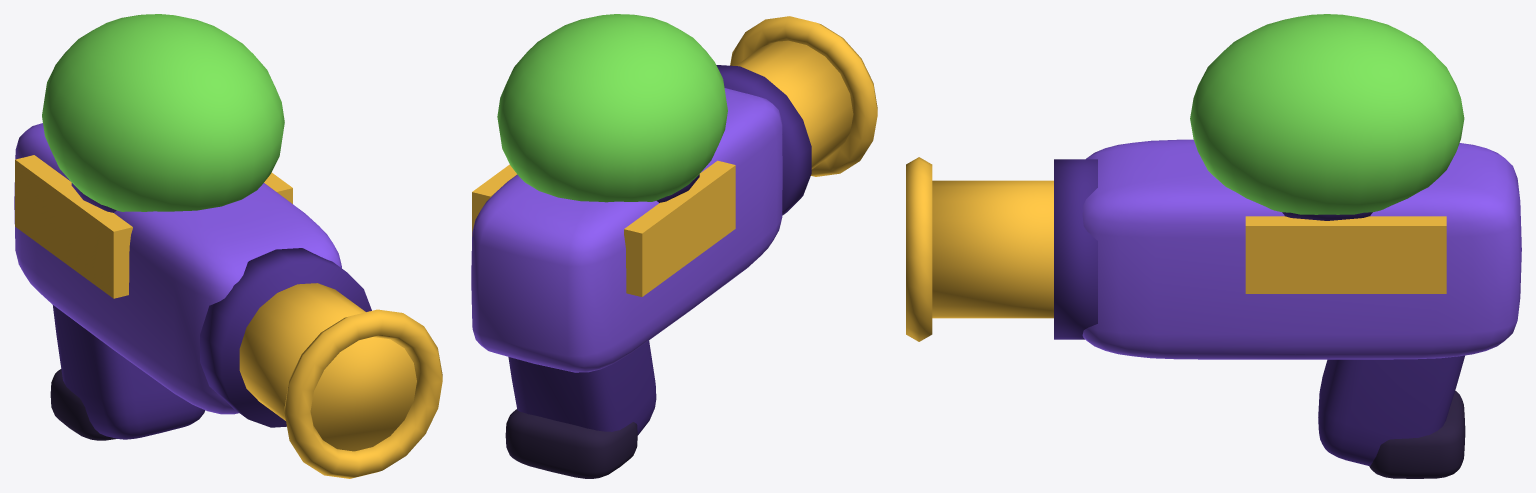
File: P_GooBlaster.fbx
The picture shows the model from 3 angles, left to right: view 1: azimuth 30°, elevation 25°; view 2: azimuth 150°, elevation 25°; view 3: azimuth 270°, elevation 25°; orthographic projection. The views are drawn at different scales.
Visible parts, largest first — view 1: P_GooBlaster__Slime, P_GooBlaster__Trim, P_GooBlaster__Body, P_GooBlaster__BodyDark, P_GooBlaster__Grip; view 2: P_GooBlaster__Body, P_GooBlaster__Slime, P_GooBlaster__Trim, P_GooBlaster__BodyDark, P_GooBlaster__Grip; view 3: P_GooBlaster__Body, P_GooBlaster__Slime, P_GooBlaster__Trim, P_GooBlaster__BodyDark, P_GooBlaster__Grip.
Boxes of the visible parts, left/top/right/bottom form: P_GooBlaster__Slime: left=42, top=14, right=284, bottom=211; P_GooBlaster__Trim: left=15, top=155, right=442, bottom=478; P_GooBlaster__Body: left=14, top=123, right=341, bottom=414; P_GooBlaster__BodyDark: left=53, top=183, right=371, bottom=439; P_GooBlaster__Grip: left=50, top=369, right=117, bottom=440; P_GooBlaster__Body: left=471, top=88, right=782, bottom=372; P_GooBlaster__Slime: left=497, top=14, right=727, bottom=202; P_GooBlaster__Trim: left=472, top=16, right=877, bottom=296; P_GooBlaster__BodyDark: left=508, top=65, right=811, bottom=435; P_GooBlaster__Grip: left=505, top=409, right=637, bottom=478; P_GooBlaster__Body: left=1082, top=139, right=1521, bottom=359; P_GooBlaster__Slime: left=1190, top=14, right=1464, bottom=214; P_GooBlaster__Trim: left=906, top=157, right=1446, bottom=341; P_GooBlaster__BodyDark: left=1054, top=159, right=1465, bottom=465; P_GooBlaster__Grip: left=1369, top=390, right=1465, bottom=478.
Bounding box in the file's own units: 1.9 × 3.81 × 4.9.
